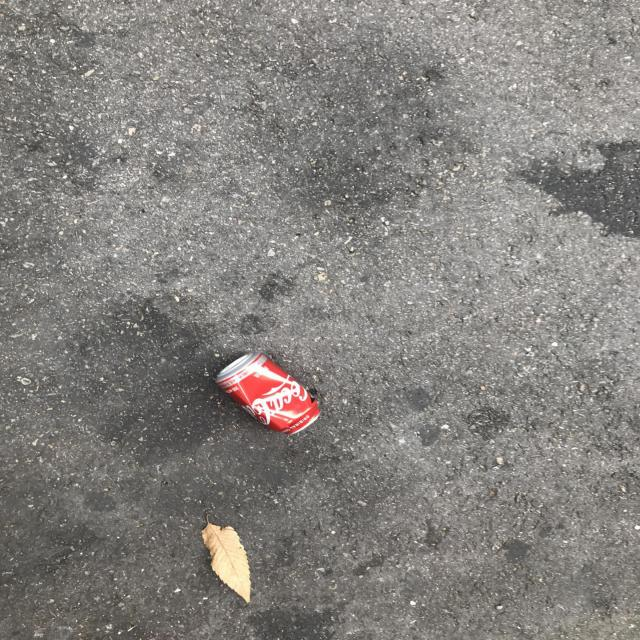can: (216, 352, 319, 435)
